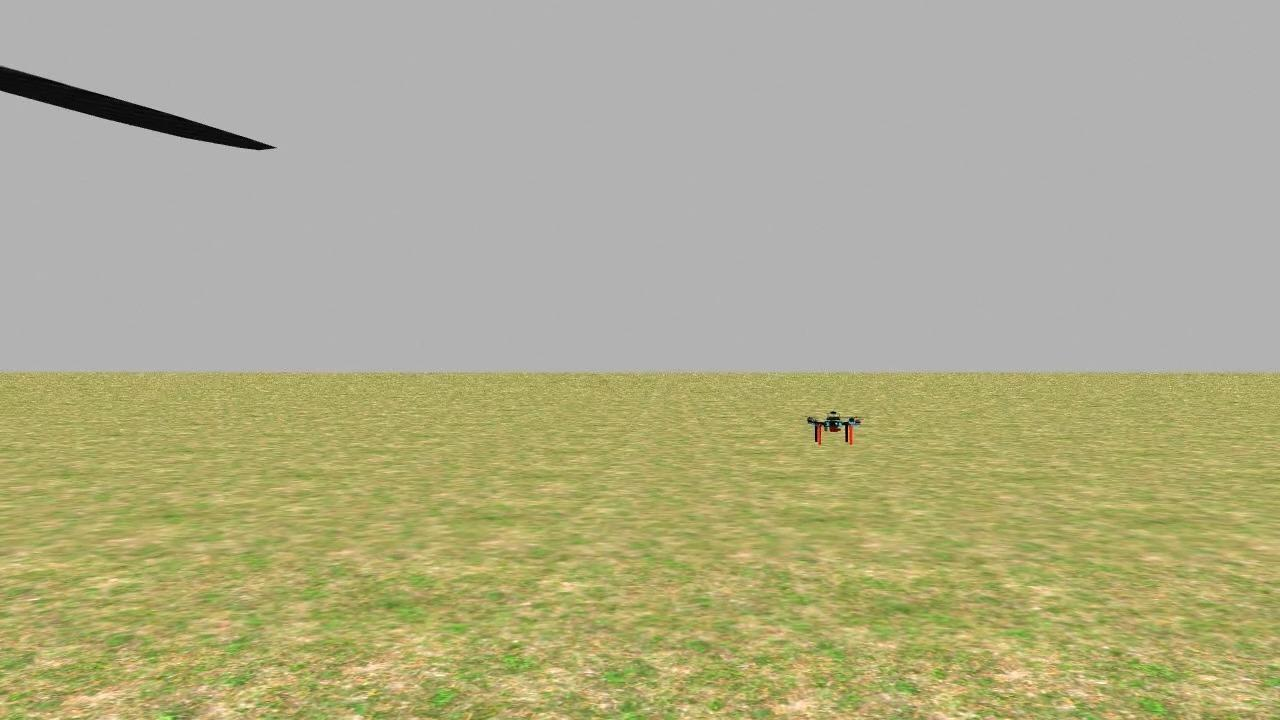UAV: (798, 400, 871, 474)
